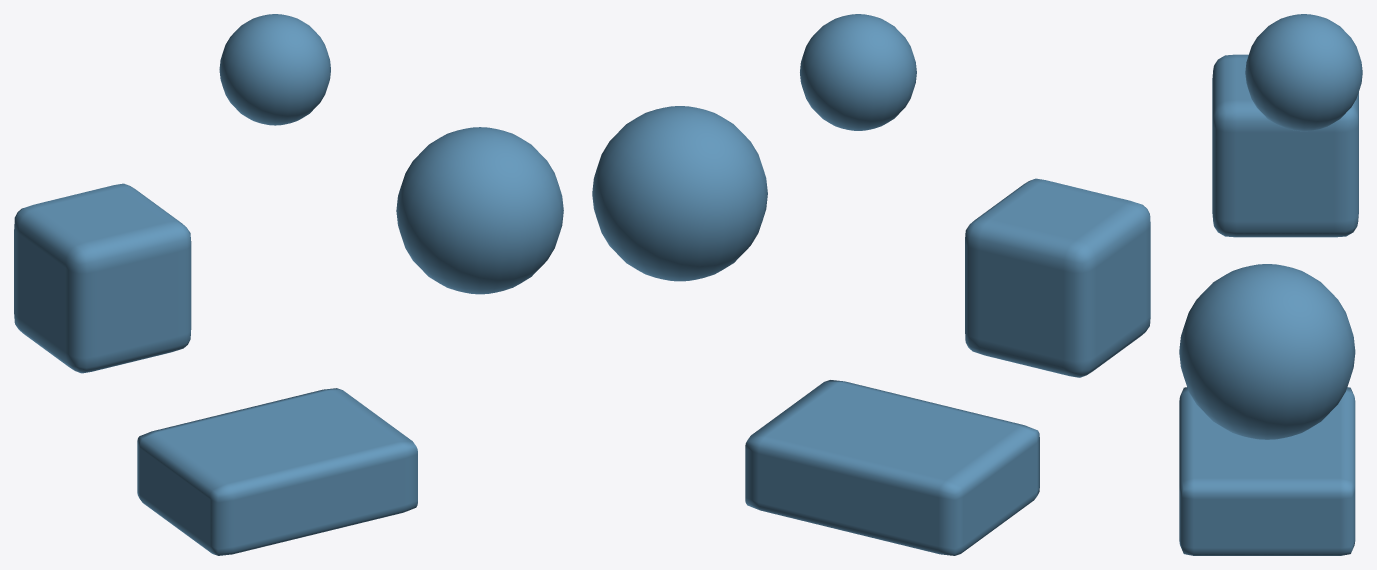
Rendered from StrandScene.gltf.
3 views of the same model, side by side, from view 1: azimuth 30°, elevation 25°; view 2: azimuth 150°, elevation 25°; view 3: azimuth 270°, elevation 25° (orthographic). The views are drawn at different scales.
Visible parts, largest first — view 1: Reference objects; view 2: Reference objects; view 3: Reference objects.
Part boxes in pixels (left/top/right/bottom): Reference objects: left=14, top=14, right=563, bottom=555; Reference objects: left=592, top=14, right=1150, bottom=555; Reference objects: left=1179, top=14, right=1362, bottom=555.
Bounding box in the file's own units: 1.66 × 1.49 × 0.5.
